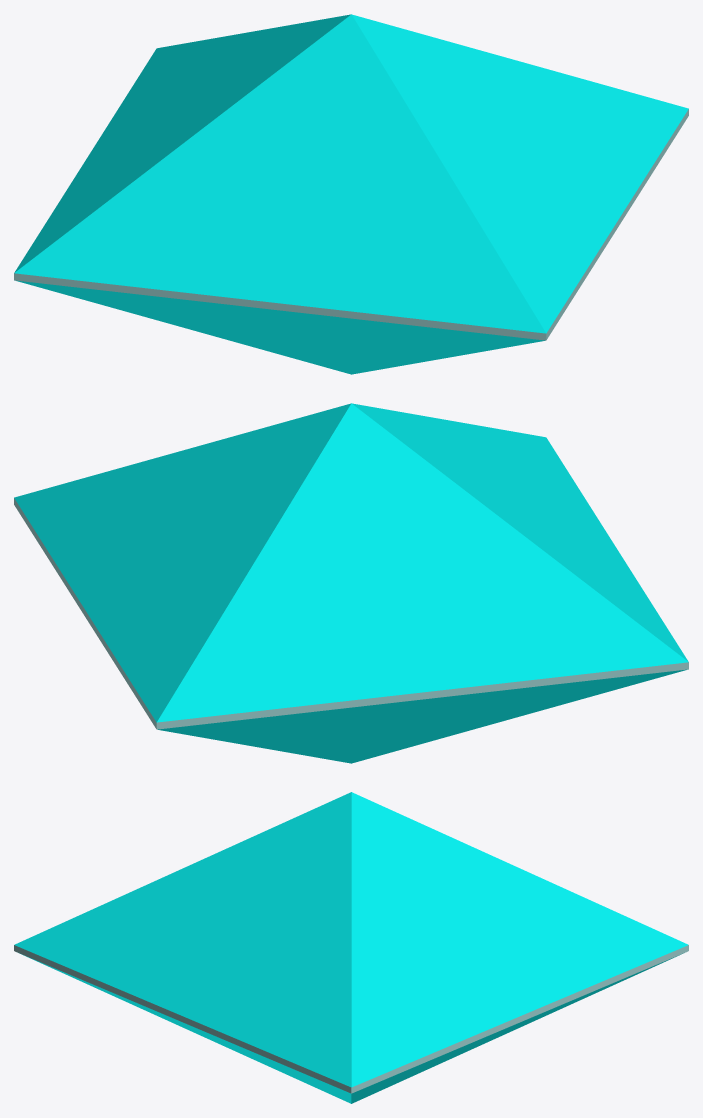
Rendered from EXP_Blue.fbx.
3 views of the same model, one above another, from view 1: azimuth 30°, elevation 25°; view 2: azimuth 150°, elevation 25°; view 3: azimuth 270°, elevation 25° (orthographic). The views are drawn at different scales.
Parts seen in each view (by area): view 1: pCone3; view 2: pCone3; view 3: pCone3.
Boxes of the visible parts, <box> form: pCone3: <box>14,14,688,374</box>; pCone3: <box>14,403,688,763</box>; pCone3: <box>14,792,688,1103</box>.
Size of the model in its own units: 2 by 1.02 by 2.
